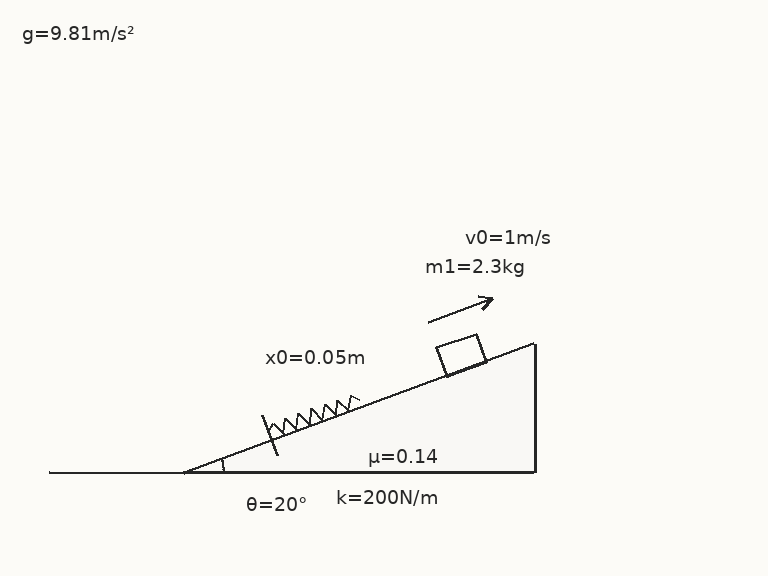block: (434, 331, 488, 378)
ramp: (182, 343, 536, 474)
spring: (266, 392, 361, 436)
